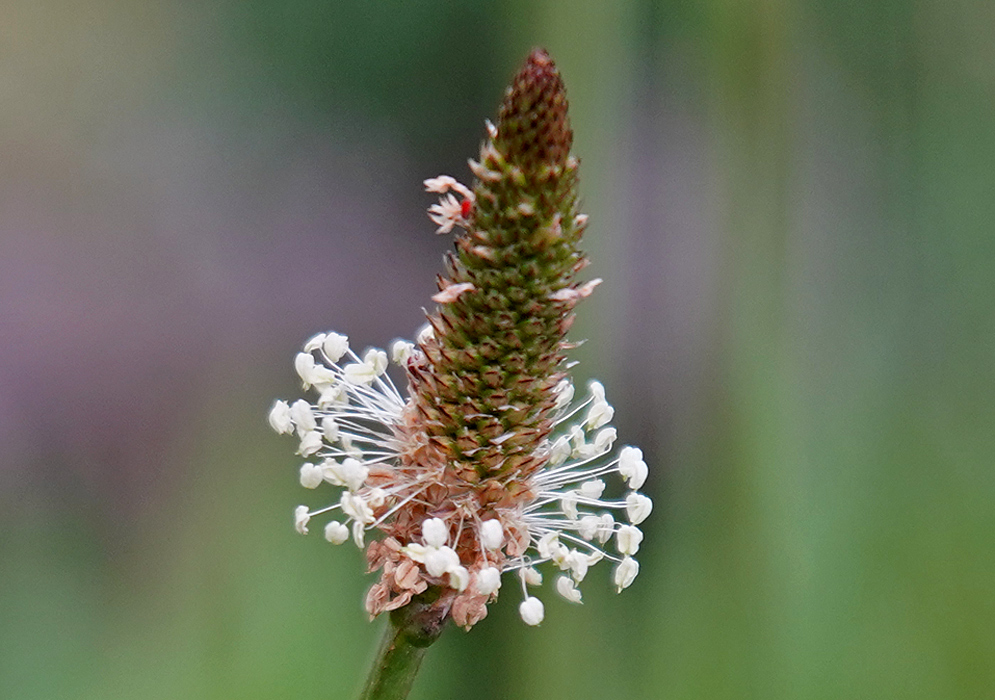buckhorn plantain: (309, 27, 683, 685)
